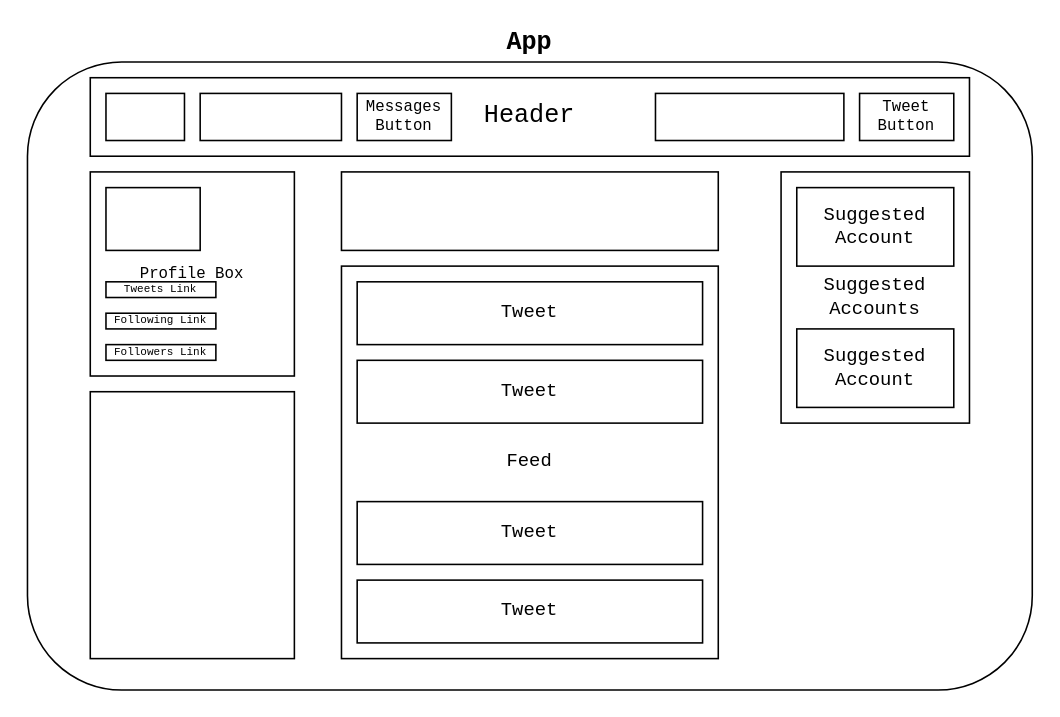
This 1060x717 diagram has some shape labels left out. The centre of each missing label's shape, as x and y in pixels:
Home Button: the point at 144,116
Notifications Button: the point at 270,116
Profile Description / Bio: the point at 191,524
Profile Pic: the point at 152,218
Search Bar: the point at 749,116
Tweet Box: the point at 529,210
